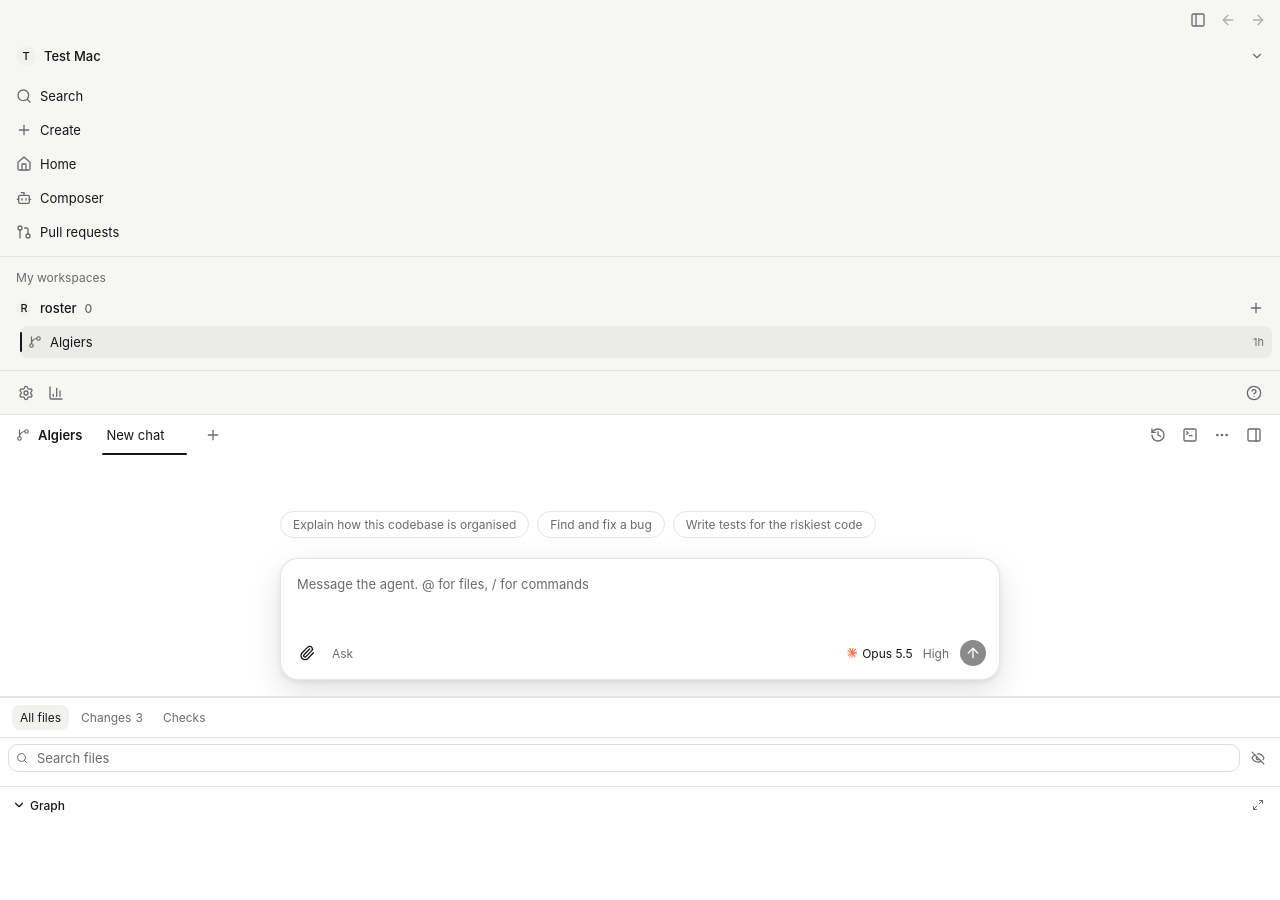
Test: changes › lists changed files with their counts and a total, on its tab
The image size is (1280, 900).
Click the tab "Changes3" at (112, 718), box 73,705 -> 151,730
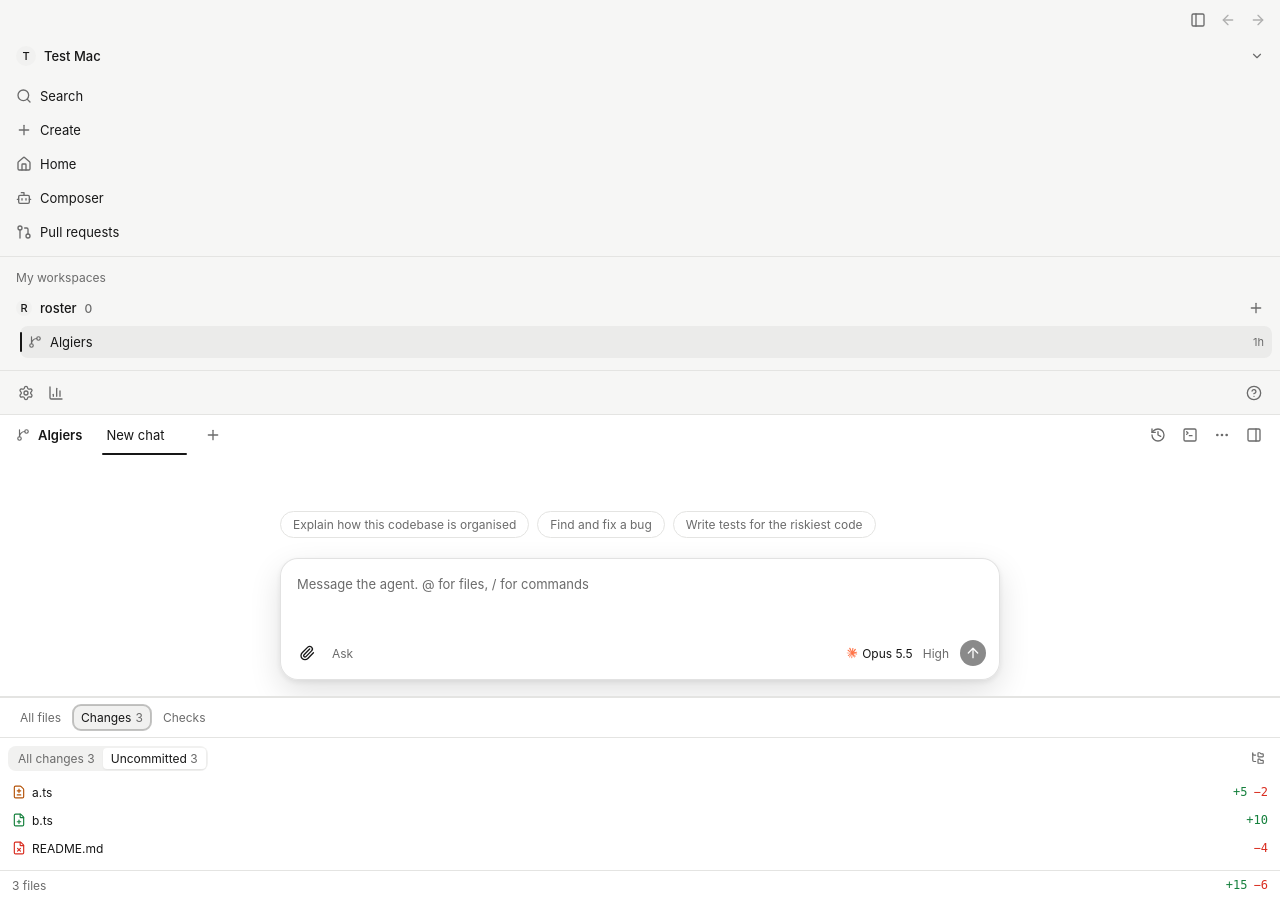
Expected: the button "a.ts +5 −2" is shown, 4,778 -> 1276,806
Expected: the icon named "Added" is shown, 12,813 -> 26,827
Expected: the icon named "Deleted" is shown, 12,841 -> 26,855
